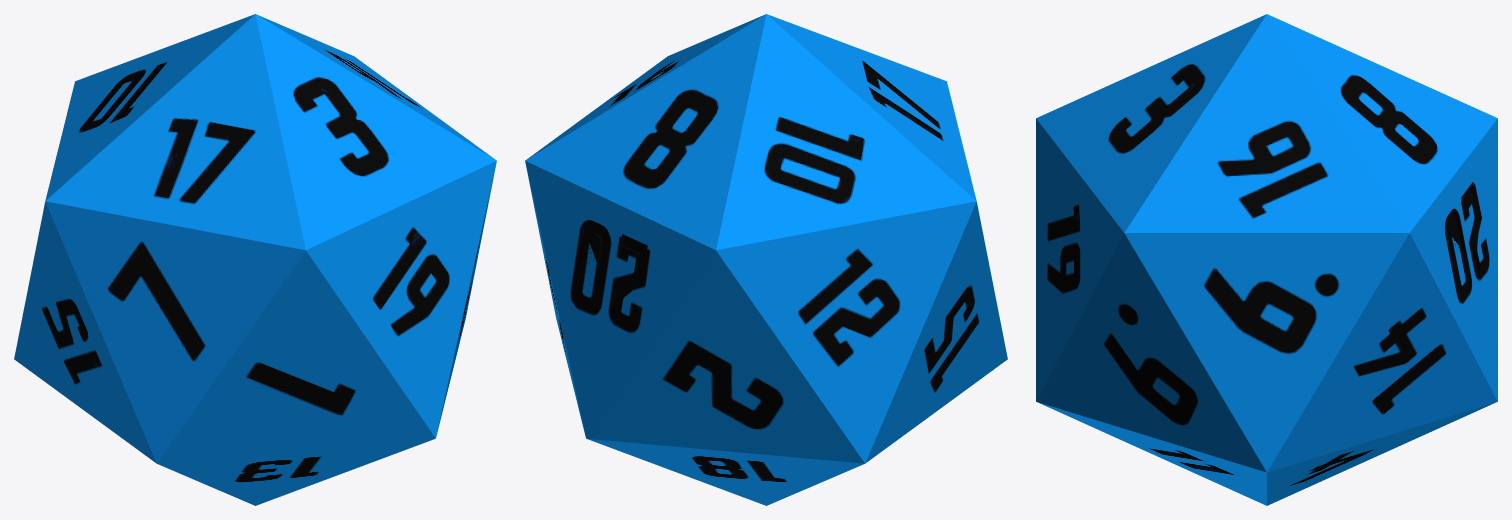
3 views of the same model, side by side, from view 1: azimuth 30°, elevation 25°; view 2: azimuth 150°, elevation 25°; view 3: azimuth 270°, elevation 25° (orthographic).
Visible parts, largest first — view 1: Dice_d20; view 2: Dice_d20; view 3: Dice_d20.
Boxes of the visible parts, left/top/right/bottom form: Dice_d20: left=14, top=14, right=496, bottom=505; Dice_d20: left=525, top=14, right=1007, bottom=505; Dice_d20: left=1036, top=14, right=1497, bottom=505.
Bounding box in the file's own units: 170 × 190 × 162.
